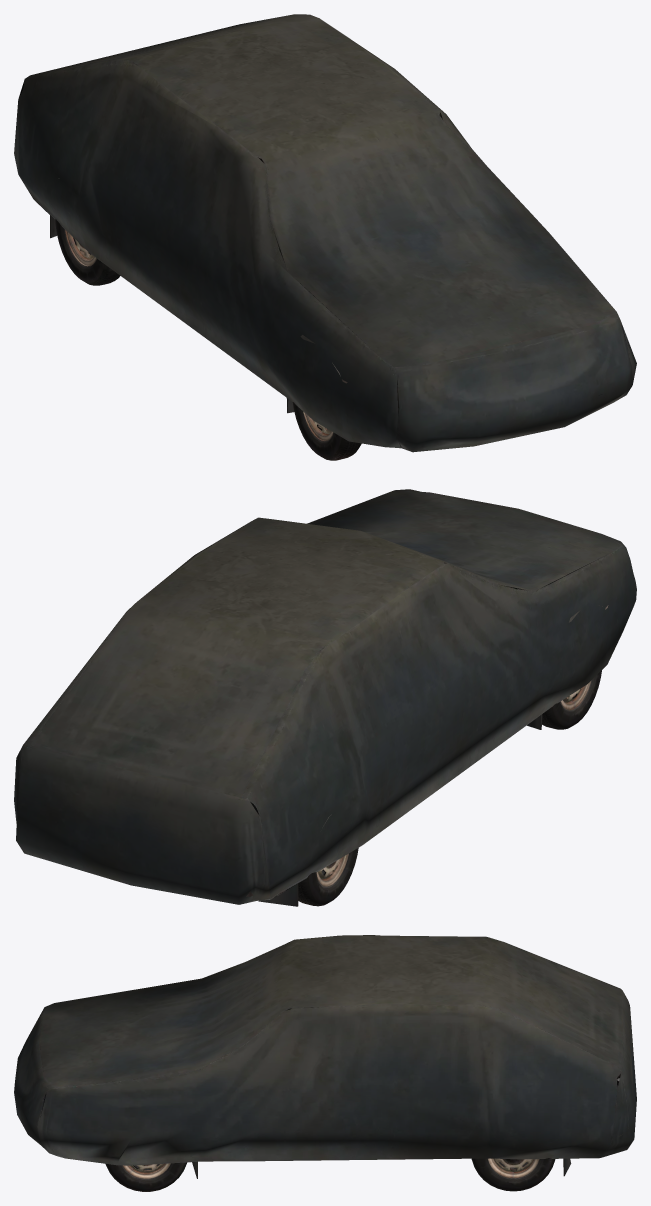
File: covered_car.gltf
The picture shows the model from 3 angles, top to bottom: view 1: azimuth 30°, elevation 25°; view 2: azimuth 150°, elevation 25°; view 3: azimuth 270°, elevation 25°; orthographic projection. The views are drawn at different scales.
Parts seen in each view (by area): view 1: covered_car, covered_car_wheel_03, covered_car_wheel_02; view 2: covered_car, covered_car_wheel_03, covered_car_wheel_02; view 3: covered_car, covered_car_wheel_04, covered_car_wheel_01.
Part boxes in pixels (x1,y1,x2,y2): covered_car: [14, 14, 636, 452]; covered_car_wheel_03: [55, 219, 120, 285]; covered_car_wheel_02: [292, 402, 361, 460]; covered_car: [14, 489, 636, 906]; covered_car_wheel_03: [298, 848, 358, 906]; covered_car_wheel_02: [542, 670, 601, 729]; covered_car: [14, 935, 636, 1178]; covered_car_wheel_04: [471, 1158, 555, 1191]; covered_car_wheel_01: [105, 1162, 187, 1191].
Size of the model in its own units: 1.79 by 1.41 by 4.38.
1 material, 1 textured.
